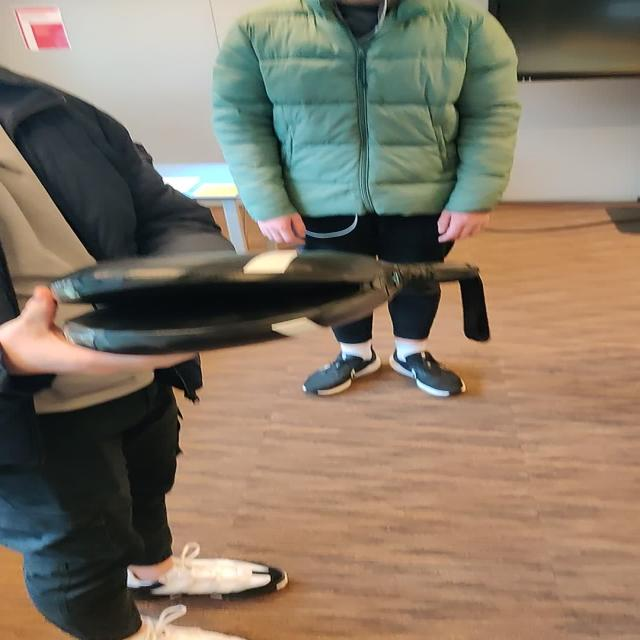paddle: (46, 249, 480, 355)
